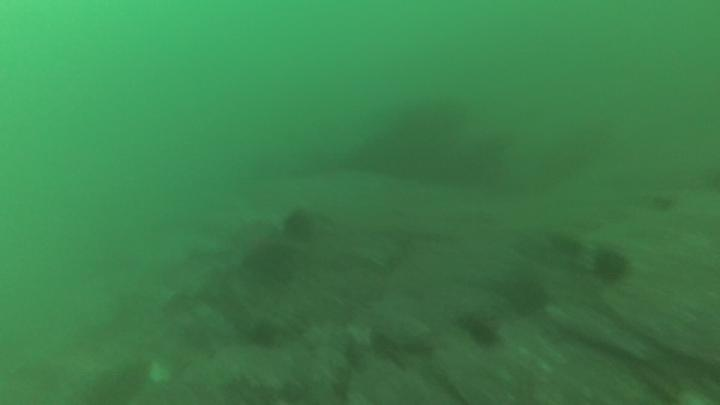echinus: (593, 252, 624, 281), (286, 215, 313, 239)
starfish: (238, 229, 291, 274)
